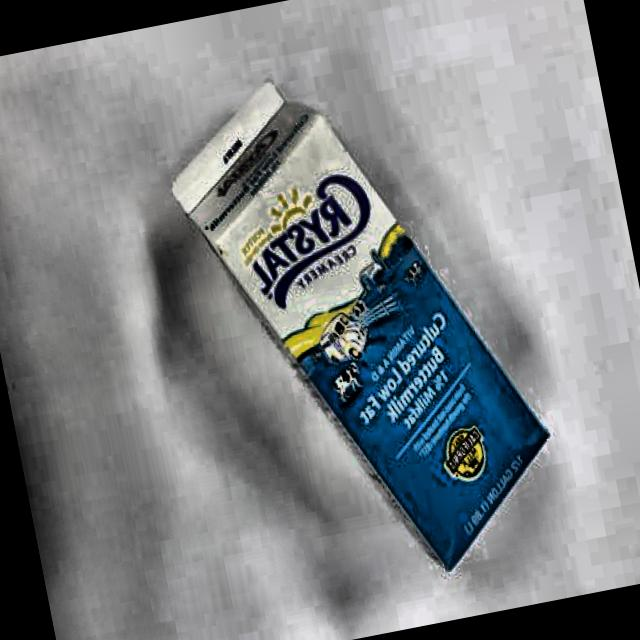paper: (154, 31, 568, 603)
